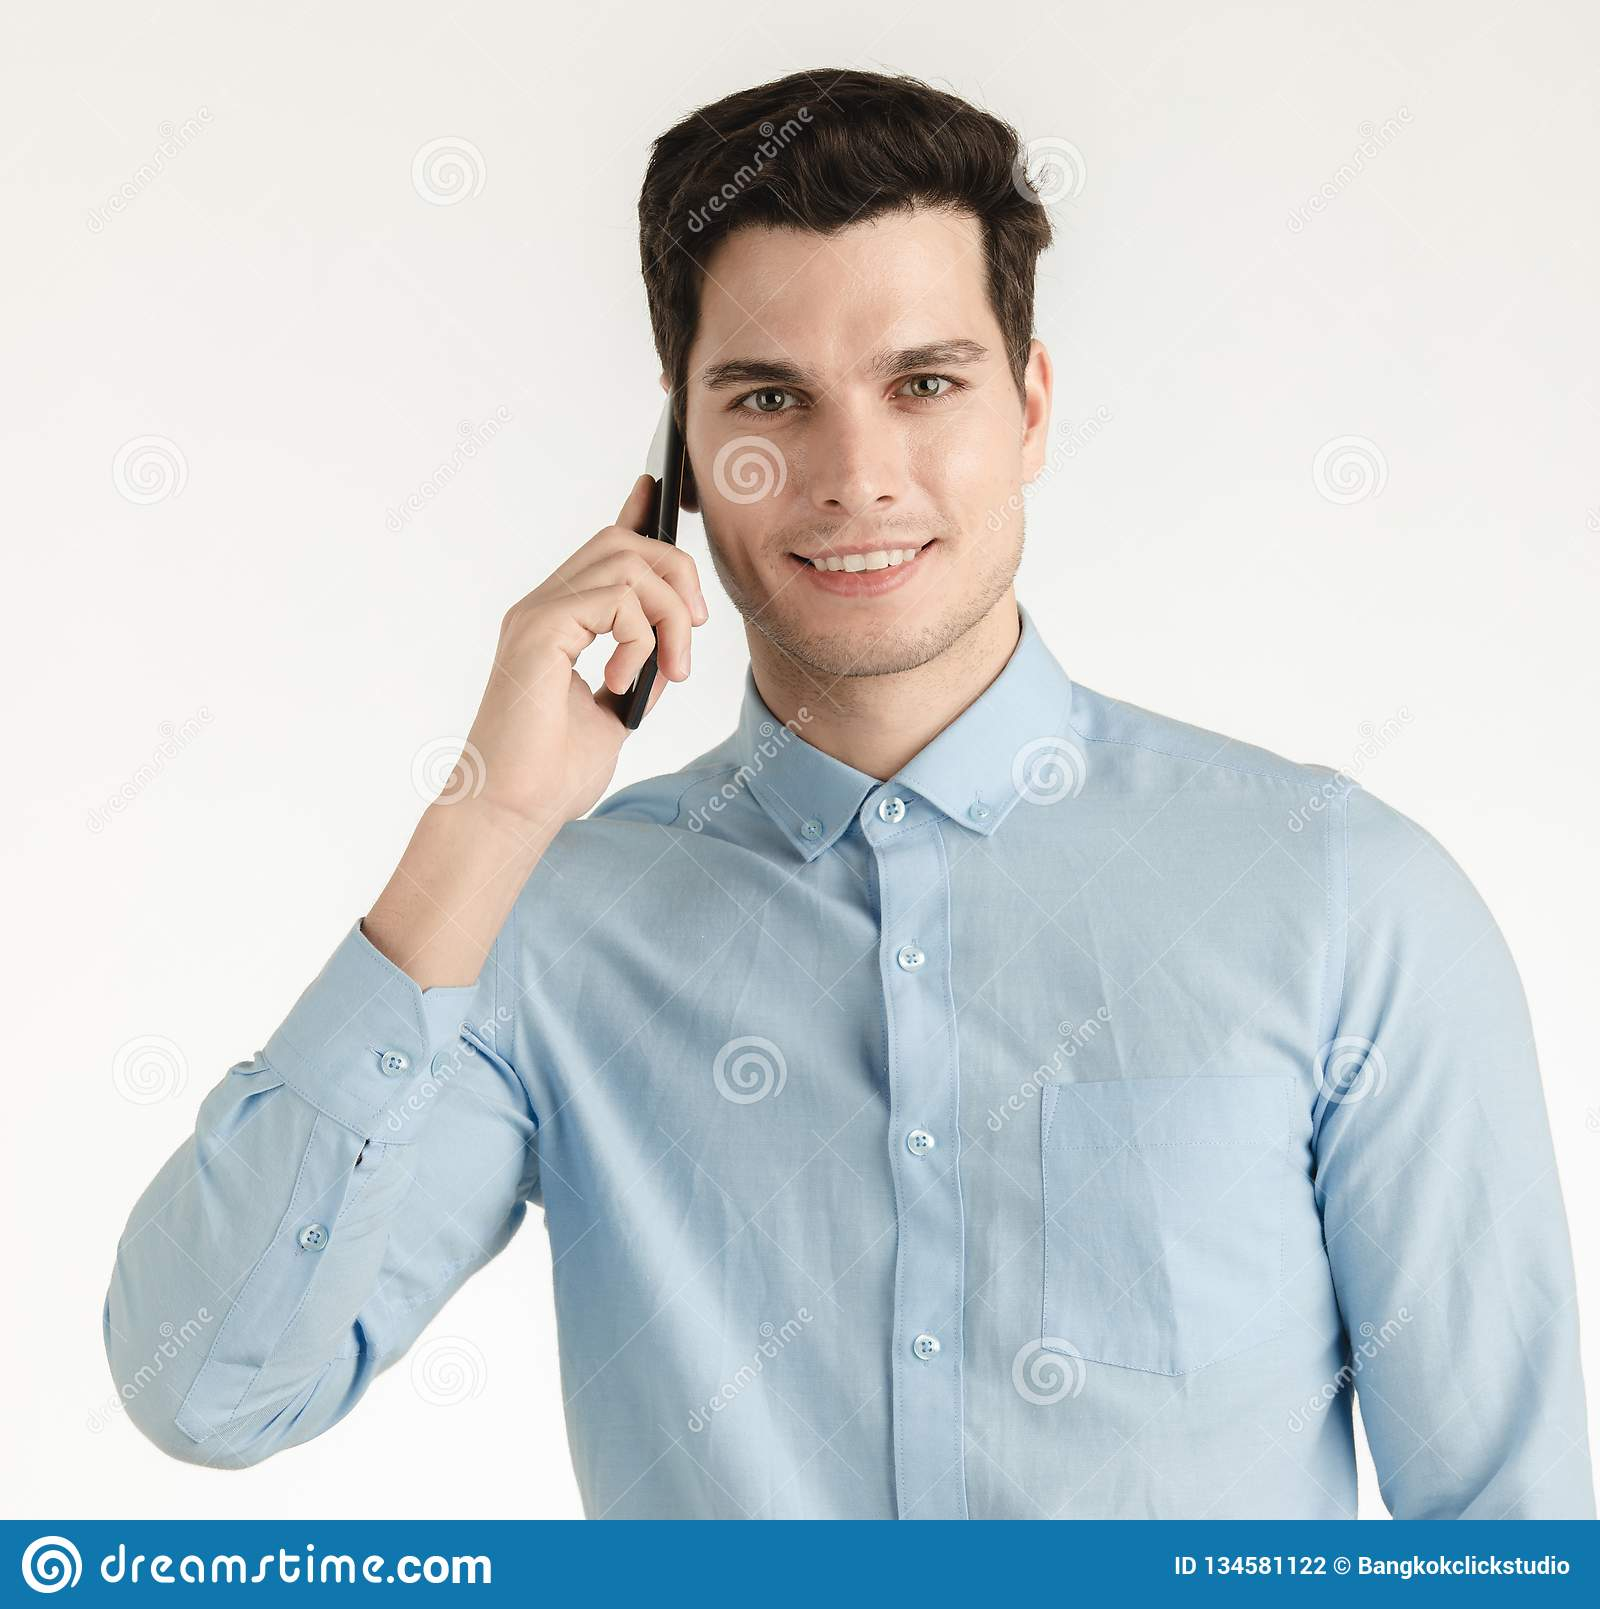phone: (612, 394, 686, 741)
talk: (482, 330, 999, 846)
